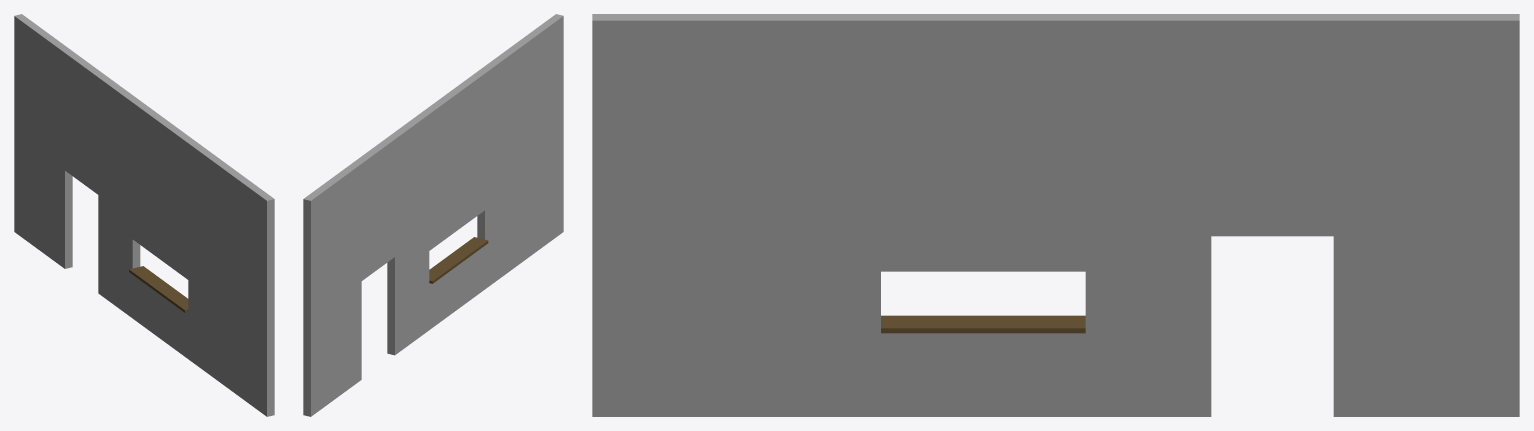
The model's file is KitchenWall.fbx.
The picture shows the model from 3 angles, left to right: view 1: azimuth 30°, elevation 25°; view 2: azimuth 150°, elevation 25°; view 3: azimuth 270°, elevation 25°; orthographic projection. The views are drawn at different scales.
Parts seen in each view (by area): view 1: KitchenWall01; view 2: KitchenWall01; view 3: KitchenWall01.
Part boxes in pixels (<box>): KitchenWall01: <box>14,14,274,416</box>; KitchenWall01: <box>303,14,563,416</box>; KitchenWall01: <box>592,14,1519,416</box>.
Size of the model in its own units: 0.6046 by 8.76 by 18.58.
